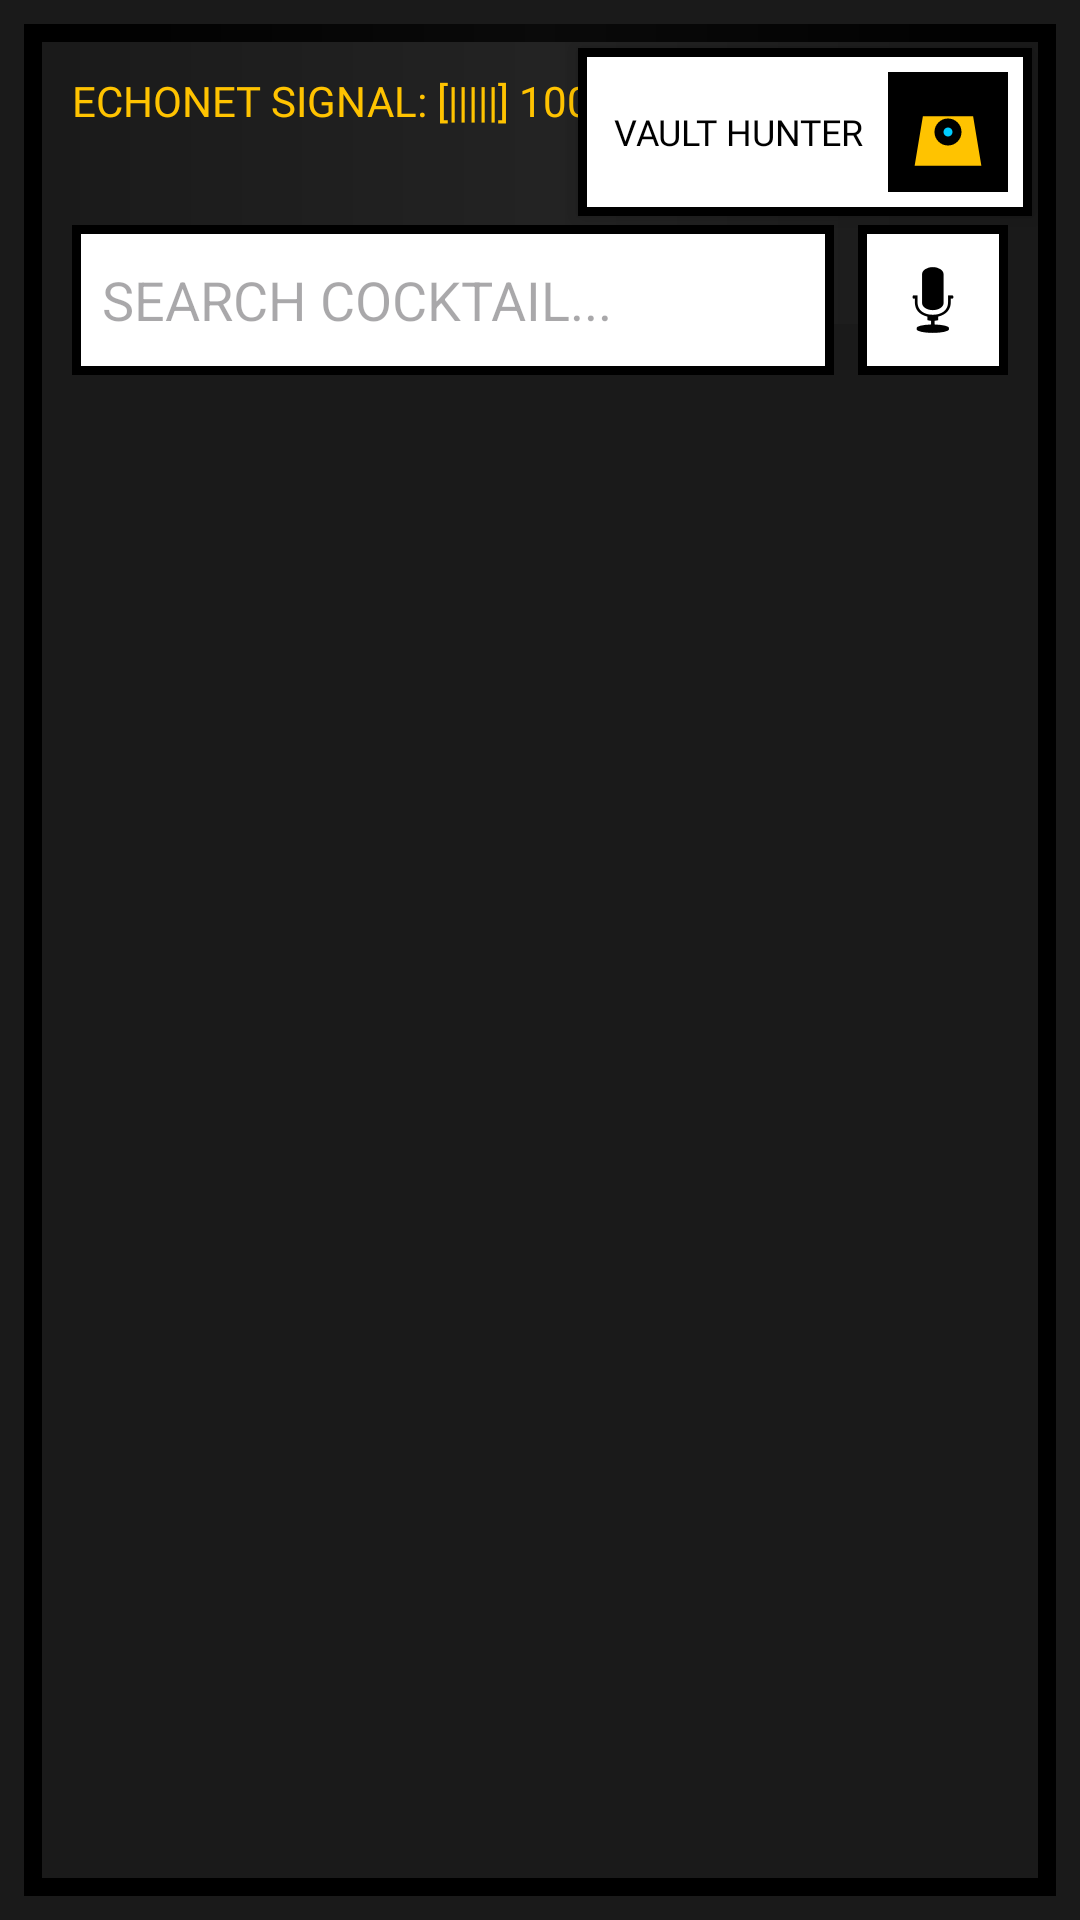

Icons on this 1080×1920 Android screen, each with the point to tap as (x,y):
Voice Search: (933,300)
